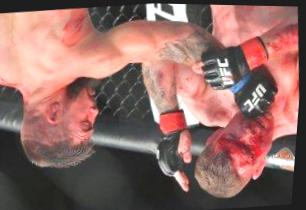Fire: (215, 110, 275, 175), (60, 7, 93, 48), (269, 22, 299, 51), (81, 114, 96, 138), (0, 78, 24, 88), (281, 52, 297, 64)
